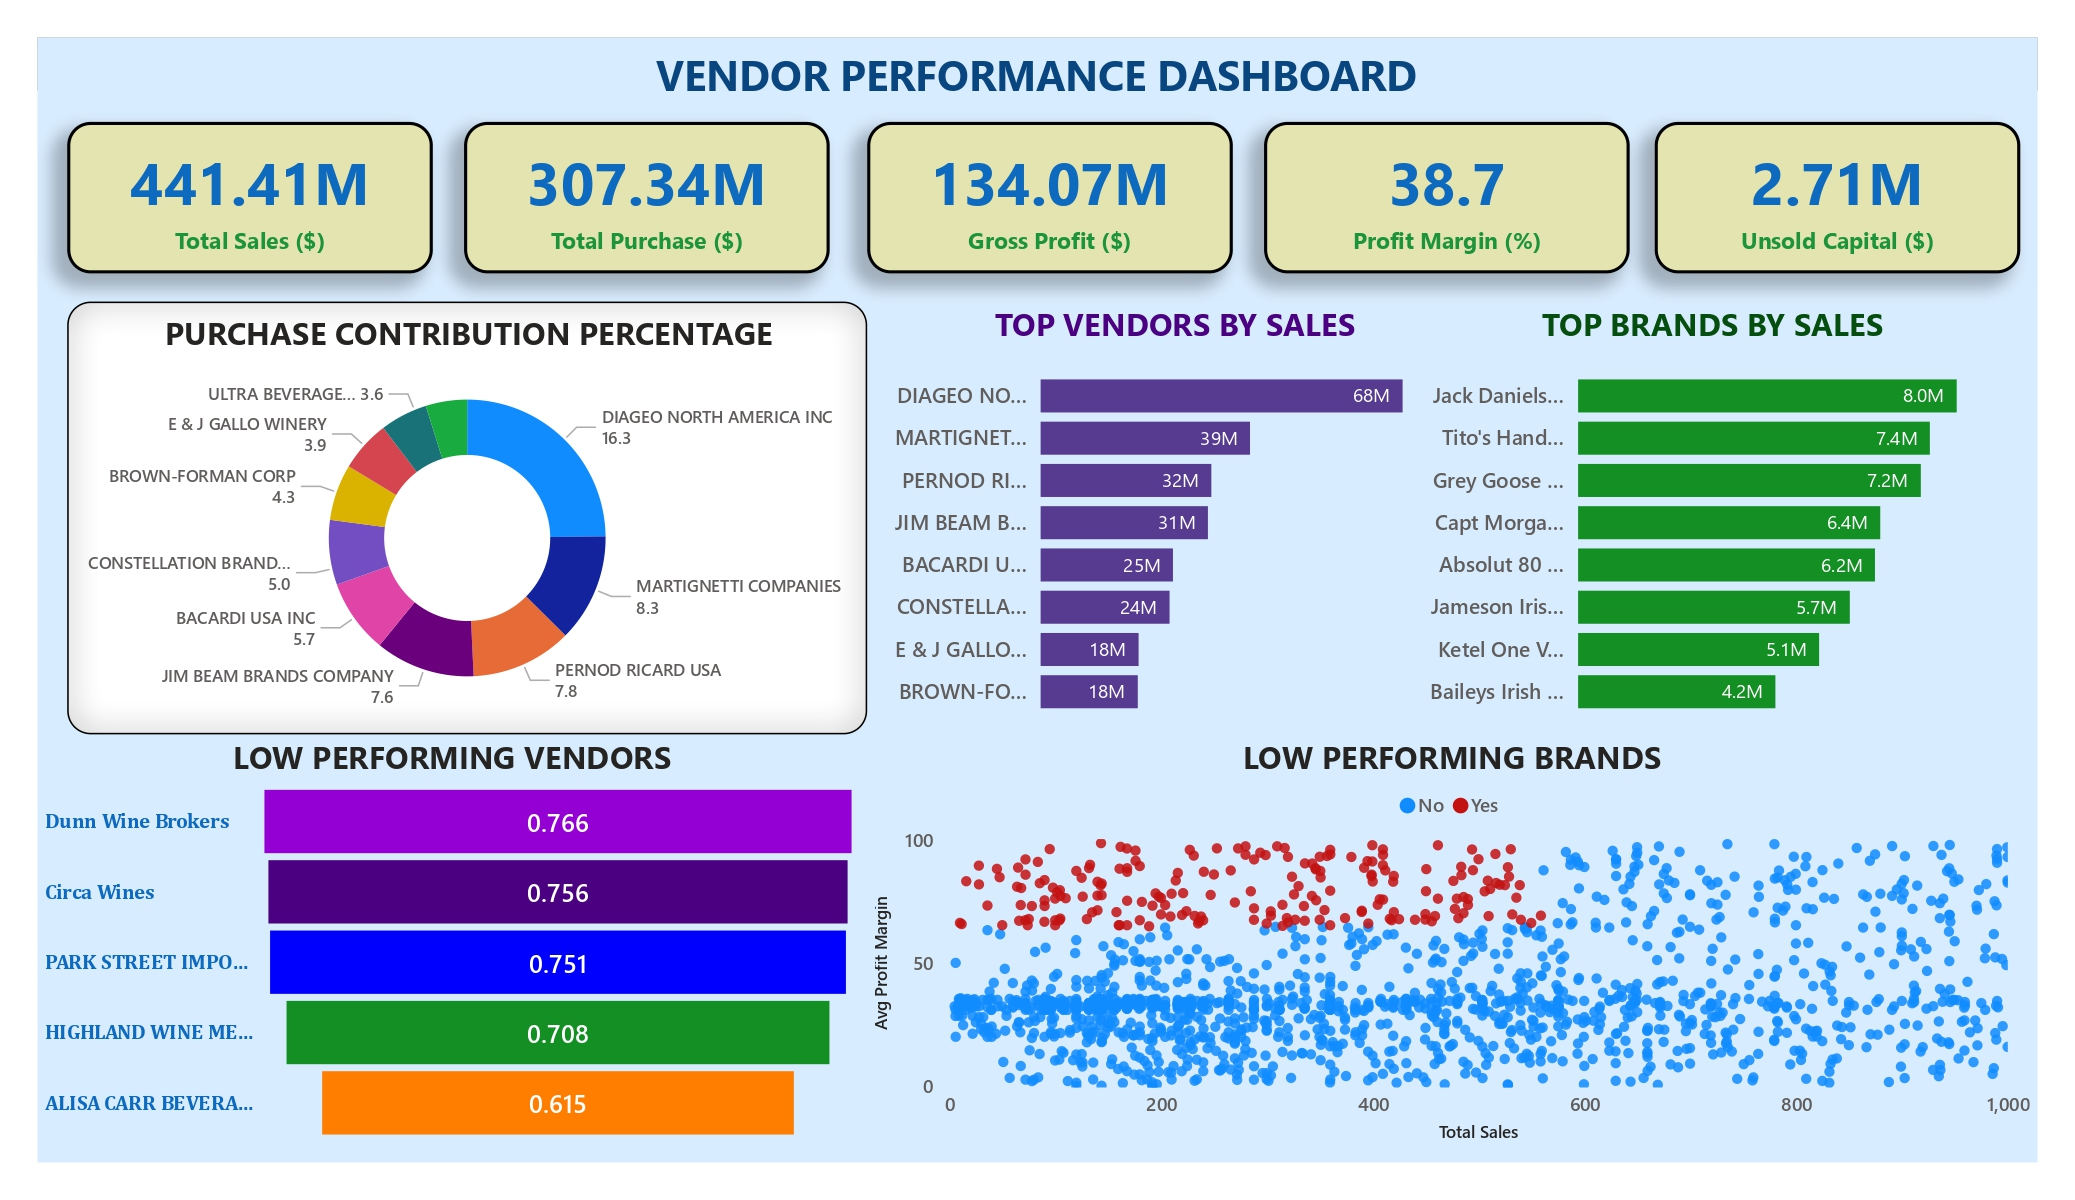

What the dashboard file says about the page in this screenshot:
{"tool":"powerbi","page":{"name":"Page 1","canvas":[1280,720],"ordinal":0},"visuals":[{"type":"card","fields":{"Values":["vendor_summary.TotalSalesDollars"]},"box":[19.3,54.3,234,96.5],"z":0},{"type":"donutChart","title":"PURCHASE CONTRIBUTION PERCENTAGE","fields":{"Y":["PurchaseContribution.Contribution%"],"Category":["PurchaseContribution.VendorName"]},"box":[19.3,168.9,511.5,277.5],"z":1000},{"type":"card","fields":{"Values":["vendor_summary.TotalPurchaseDollars"]},"box":[272.7,54.3,234,96.5],"z":2000},{"type":"textbox","box":[389.7,0,499.5,45.8],"z":3000},{"type":"card","fields":{"Values":["vendor_summary.GrossProfit"]},"box":[530.8,54.3,234,96.5],"z":4000},{"type":"barChart","title":"TOP VENDORS BY SALES","fields":{"Category":["vendor_summary.VendorName"],"Y":["vendor_summary.TotalSalesDollars"]},"box":[530.8,168.9,394.5,277.5],"z":5000},{"type":"card","fields":{"Values":["vendor_summary.ProfitMargin"]},"box":[785.4,54.3,234,96.5],"z":6000},{"type":"funnel","title":"LOW PERFORMING VENDORS","fields":{"Category":["LowTurnoverVendor.VendorName"],"Y":["LowTurnoverVendor.AvgStockTurnover"]},"box":[0,446.4,530.8,265.4],"z":7000},{"type":"card","fields":{"Values":["vendor_summary.UnsoldCapital"]},"box":[1035.1,54.3,234,96.5],"z":8000},{"type":"scatterChart","title":"LOW PERFORMING BRANDS","fields":{"Category":["BrandPerformance.Description"],"X":["BrandPerformance.TotalSales"],"Y":["BrandPerformance.AvgProfitMargin"],"Series":["BrandPerformance.TargetBrand"]},"box":[530.8,446.4,749.2,265.4],"z":9000},{"type":"barChart","title":"TOP BRANDS BY SALES","fields":{"Y":["vendor_summary.TotalSalesDollars"],"Category":["vendor_summary.Description"]},"box":[874.7,168.9,394.5,277.5],"z":10000}]}

Visuals, with their boxes on the page's 1280x720 design canvas (x1, y1, x2, y2). These are canvas units, not pixel positions in the 2075x1200 screenshot, which may show the page scaled, cropped or inside an application window:
card - vendor_summary.TotalSalesDollars: bbox=(19, 54, 253, 151)
"PURCHASE CONTRIBUTION PERCENTAGE" donutChart: bbox=(19, 169, 531, 446)
card - vendor_summary.TotalPurchaseDollars: bbox=(273, 54, 507, 151)
textbox: bbox=(390, 0, 889, 46)
card - vendor_summary.GrossProfit: bbox=(531, 54, 765, 151)
"TOP VENDORS BY SALES" barChart: bbox=(531, 169, 925, 446)
card - vendor_summary.ProfitMargin: bbox=(785, 54, 1019, 151)
"LOW PERFORMING VENDORS" funnel: bbox=(0, 446, 531, 712)
card - vendor_summary.UnsoldCapital: bbox=(1035, 54, 1269, 151)
"LOW PERFORMING BRANDS" scatterChart: bbox=(531, 446, 1280, 712)
"TOP BRANDS BY SALES" barChart: bbox=(875, 169, 1269, 446)
